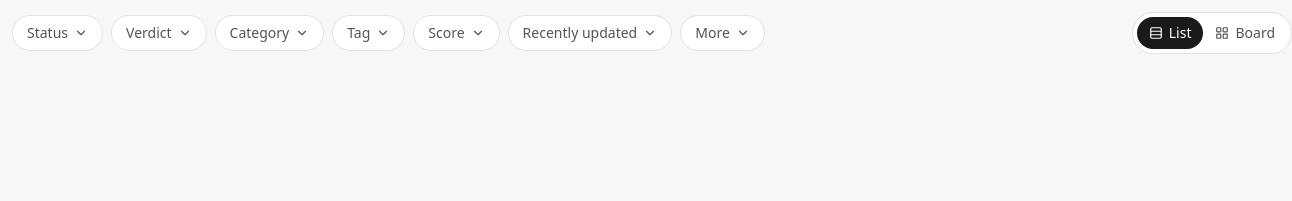
Test: FilterBar › lists tags with their counts
Click the button "Tag".
click(369, 33)  # box [332,15,405,51]
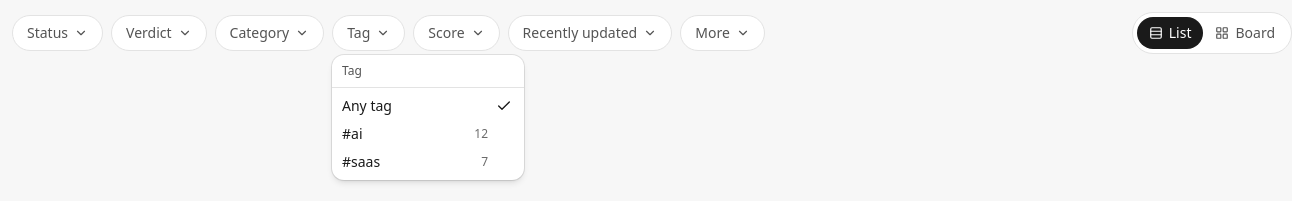
Expected: the menu item "#ai 12" is shown, [342,124,488,143]
Expected: the text "12" is shown, [474,126,488,142]
